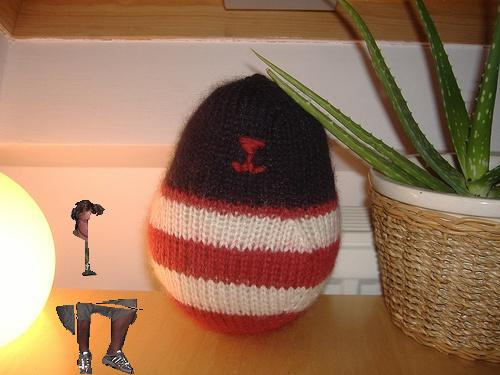tampered: (57, 201, 143, 374)
